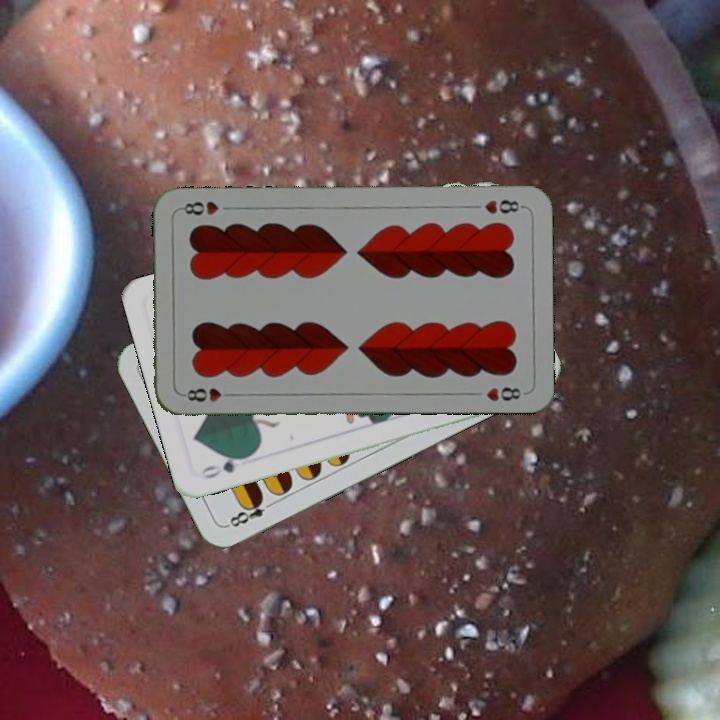E8: (223, 493, 278, 530)
GO: (197, 451, 253, 482)
H8: (179, 384, 238, 404), (480, 196, 526, 216)
